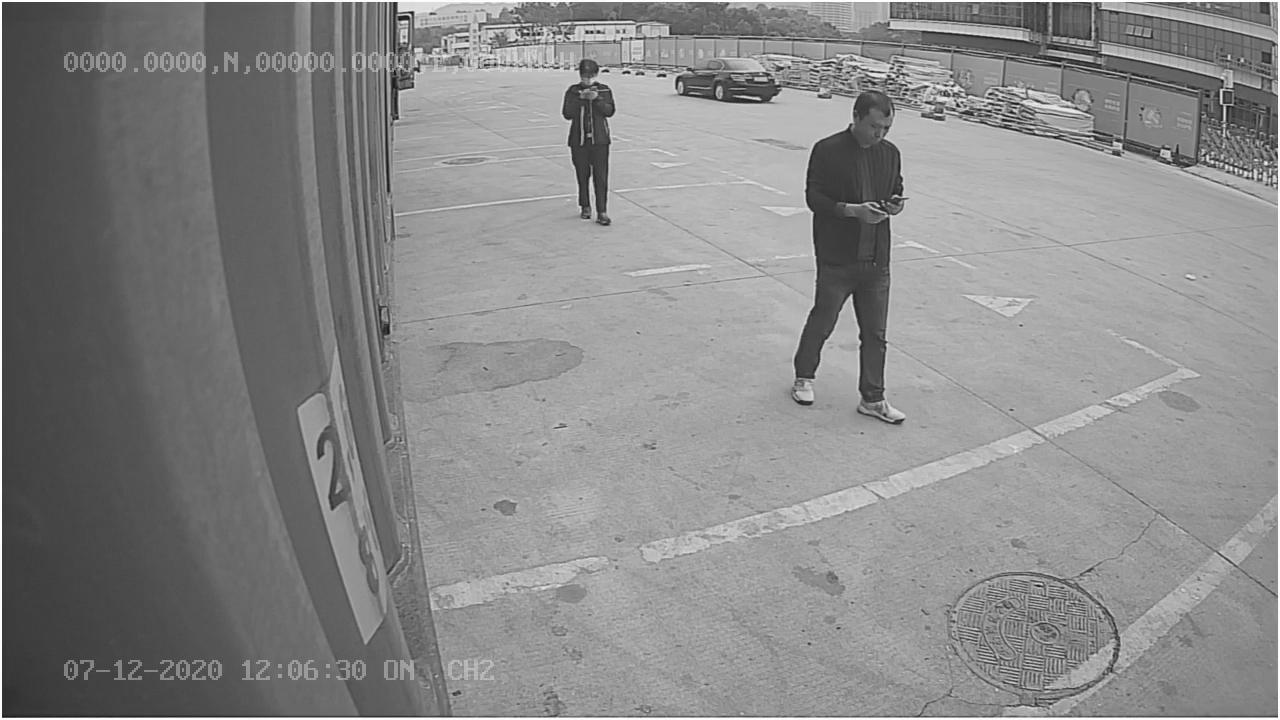person: (791, 87, 909, 422)
